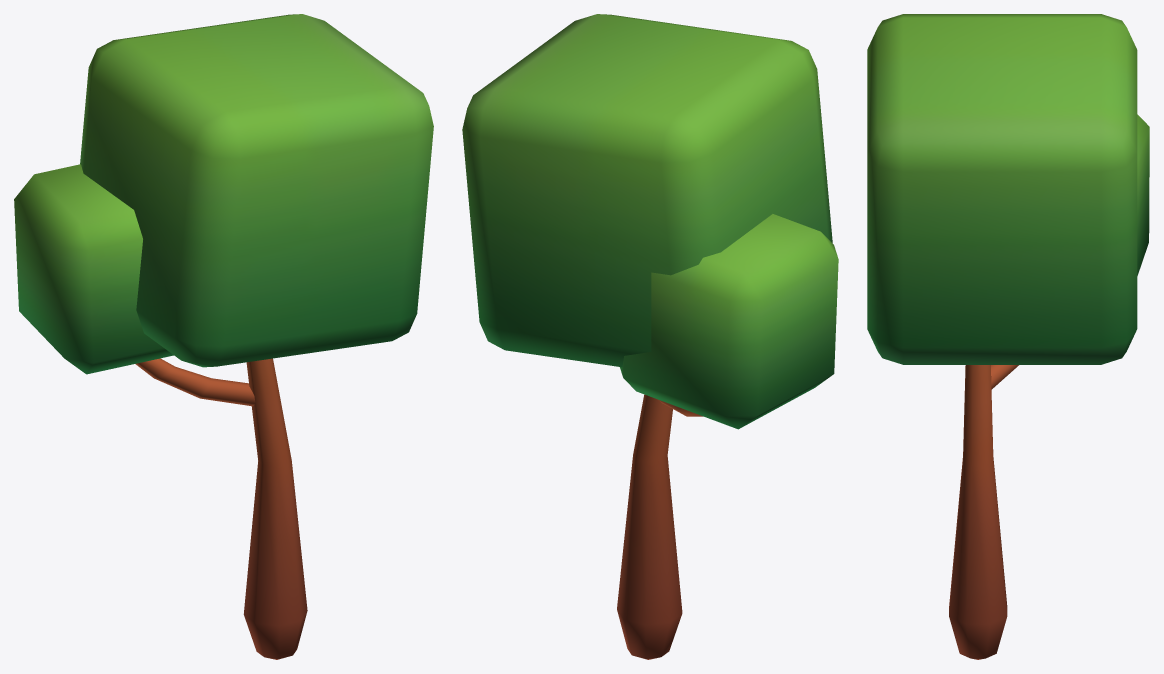
The model's file is Tree_2_A_Color1.glb.
3 views of the same model, side by side, from view 1: azimuth 30°, elevation 25°; view 2: azimuth 150°, elevation 25°; view 3: azimuth 270°, elevation 25° (orthographic). The views are drawn at different scales.
Visible parts, largest first — view 1: Tree_2_A_Color1; view 2: Tree_2_A_Color1; view 3: Tree_2_A_Color1.
Boxes of the visible parts, box(x1,y1,x2,y2) form: Tree_2_A_Color1: box(14, 14, 433, 659); Tree_2_A_Color1: box(462, 14, 838, 659); Tree_2_A_Color1: box(867, 14, 1149, 659).
Size of the model in its own units: 2.6 by 4.67 by 2.
1 material, 1 textured.
